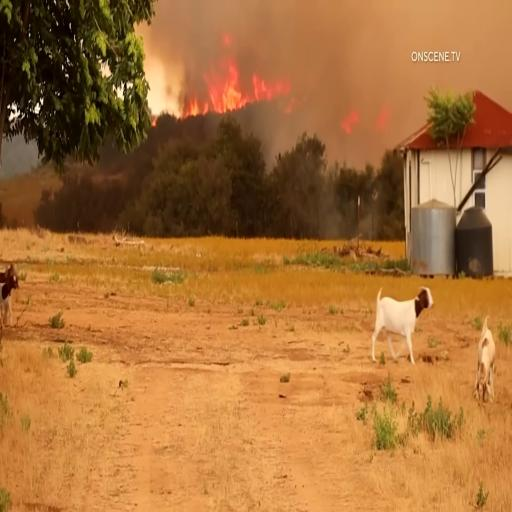fire: (174, 44, 300, 124)
